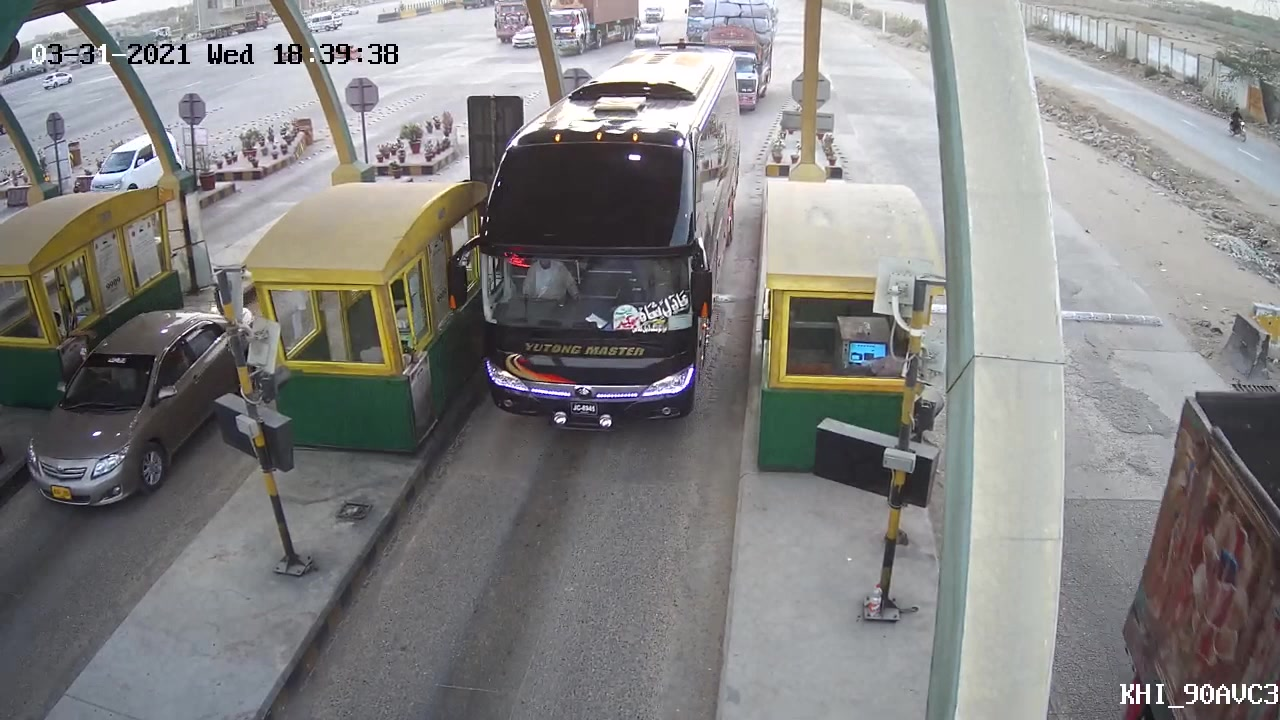F4: (465, 35, 745, 440)
